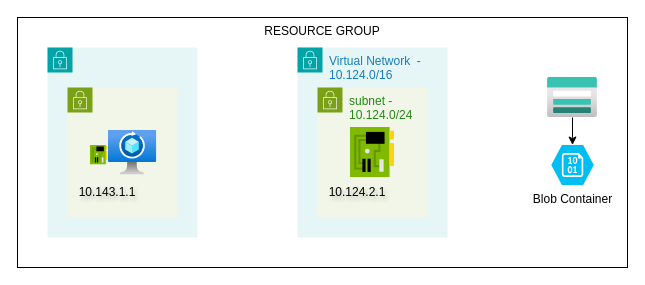
This 645x285 diagram has some shape labels left out. Each missing label, with the box of its shape:
subnet - 10.143.0.0/24: (66, 86, 178, 218)
Virtual Network - 10.143.0.0/16: (46, 46, 198, 238)
